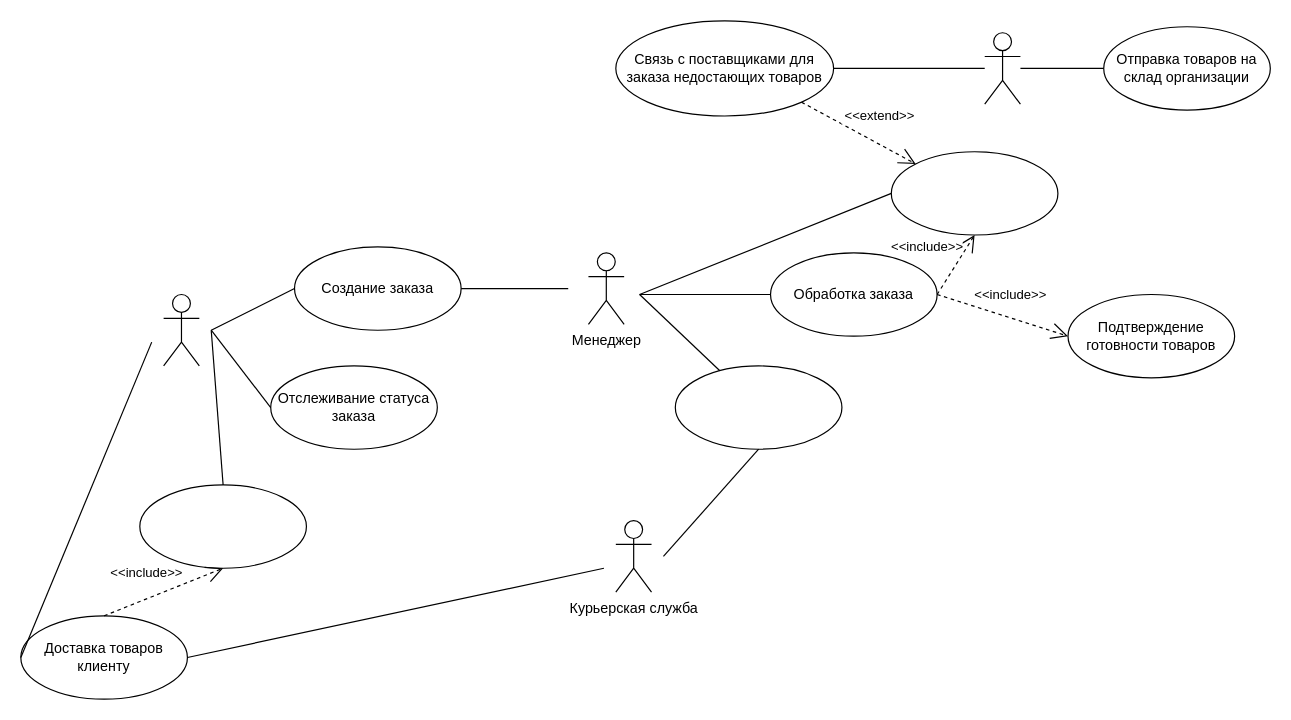
Image size: 1291x720. Some labels were removed from this diagram. Here are the shapes that lost their labels. From the top down, the box of each, then its label:
(984, 32, 1020, 104): Поставщик
(890, 151, 1058, 235): Мониторинг запасов товаров
(162, 293, 199, 366): Клиент
(674, 365, 842, 449): Получение заказа от менеджера
(139, 484, 306, 568): Оплата заказа
